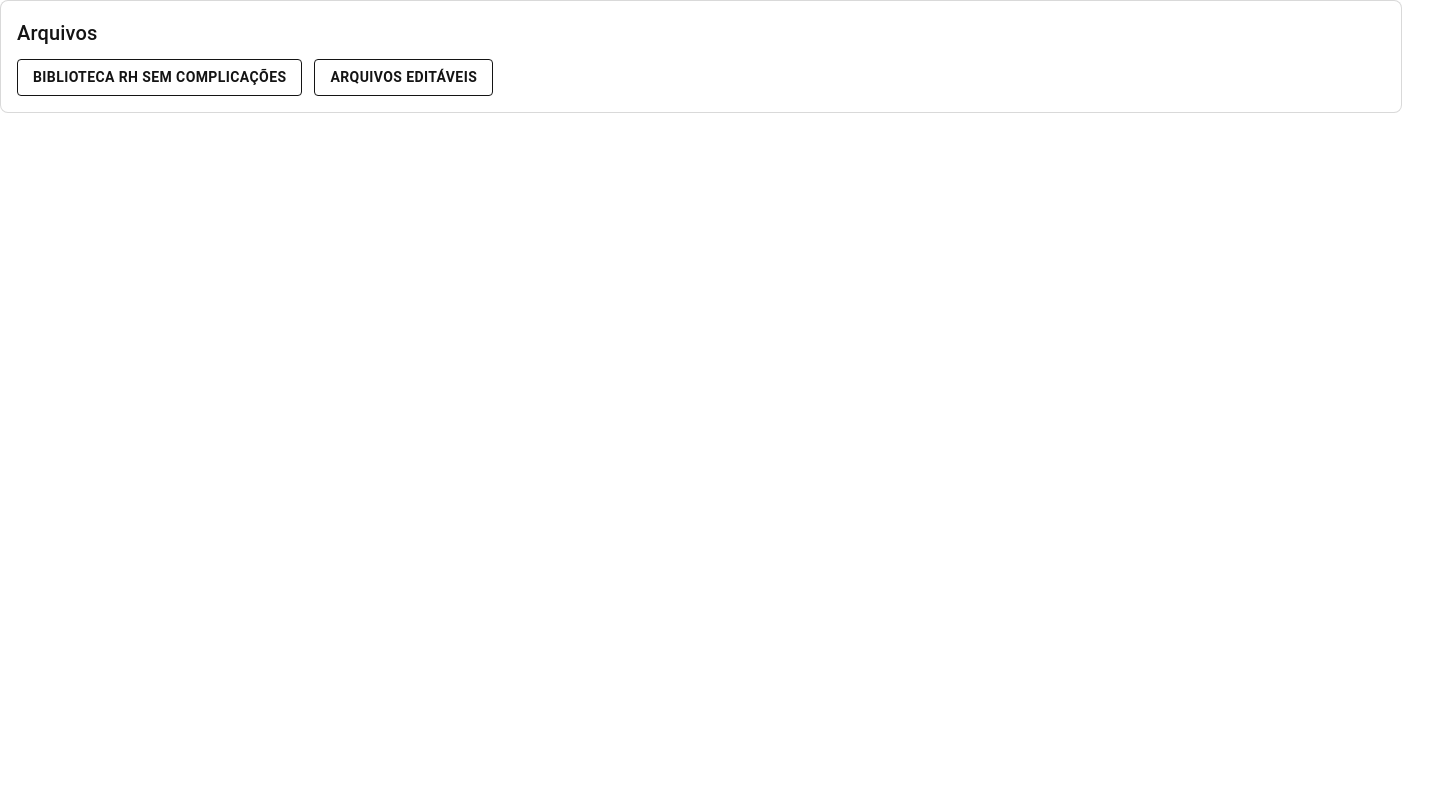
Test: never redirects to legacy storage when Embedded is enabled but the client ID is missing
Click the button "Arquivos Editáveis" at (404, 77), box [314,59,493,96]
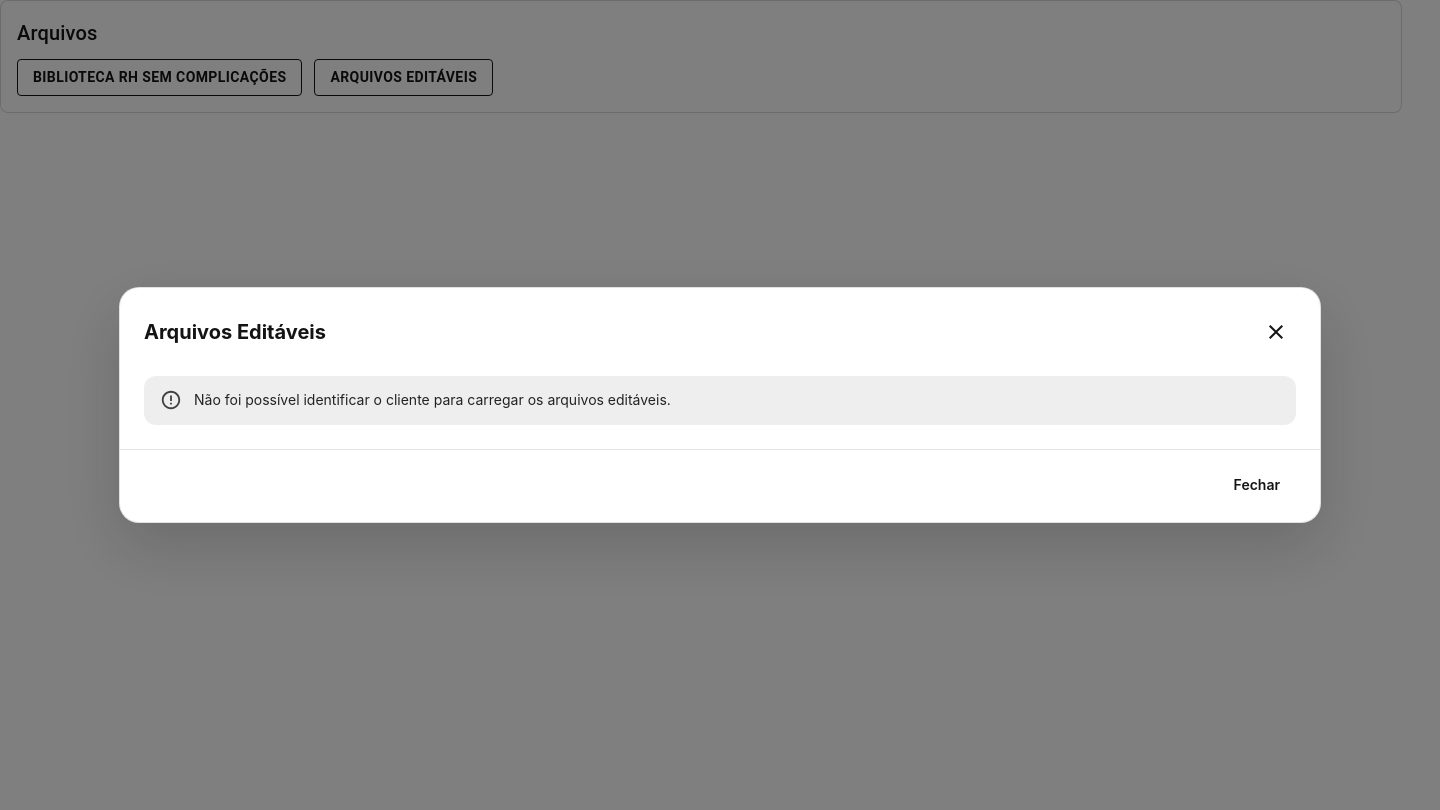
Now the message reads "Não foi possível identificar o cliente para carregar os arquivos editáveis.", box [194,392,671,408]
